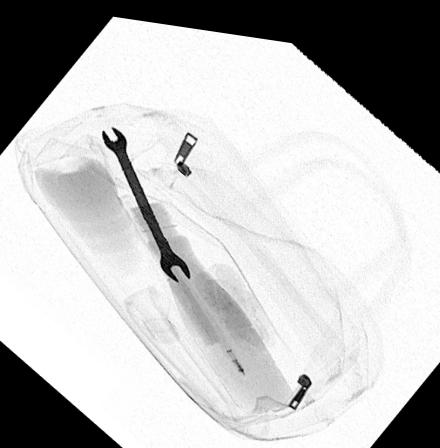Wrench: (98, 120, 192, 279)
